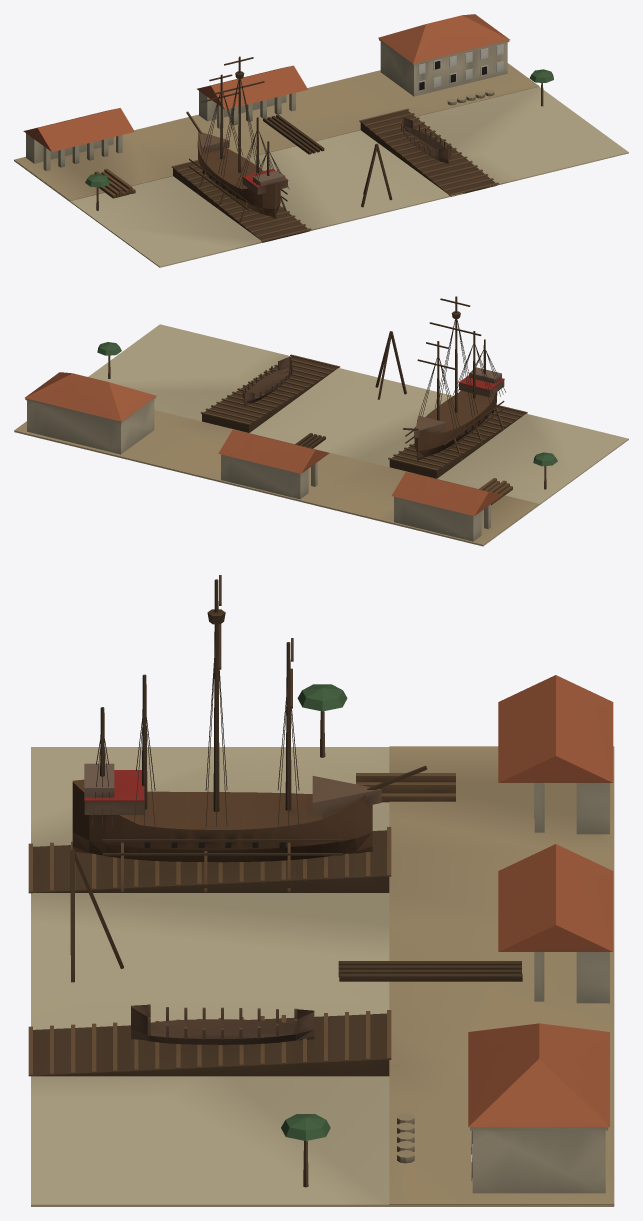
The model's file is ribeira-das-naus.glb.
The picture shows the model from 3 angles, top to bottom: view 1: azimuth 30°, elevation 25°; view 2: azimuth 150°, elevation 25°; view 3: azimuth 270°, elevation 25°; orthographic projection. The views are drawn at different scales.
Visible parts, largest first — view 1: p0_slipways, p1_ships, p2_yard; view 2: p0_slipways, p1_ships, p2_yard; view 3: p0_slipways, p1_ships, p2_yard.
Boxes of the visible parts, x1=… form: p0_slipways: x1=14, y1=63, x2=628, y2=267; p1_ships: x1=23, y1=14, x2=509, y2=224; p2_yard: x1=85, y1=69, x2=553, y2=210; p0_slipways: x1=14, y1=324, x2=628, y2=546; p1_ships: x1=25, y1=296, x2=505, y2=541; p2_yard: x1=97, y1=331, x2=557, y2=505; p0_slipways: x1=28, y1=746, x2=614, y2=1206; p1_ships: x1=72, y1=575, x2=613, y2=1193; p2_yard: x1=70, y1=684, x2=522, y2=1187.
Bounding box in the file's own units: 130 × 38.77 × 70.25.
